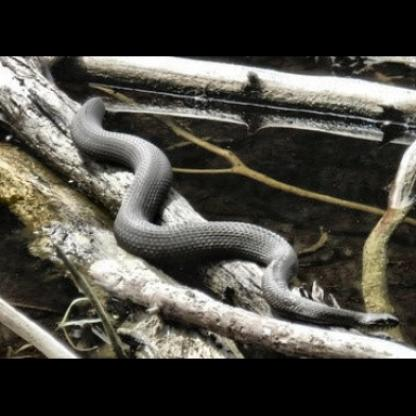Snake: (18, 99, 416, 358)
